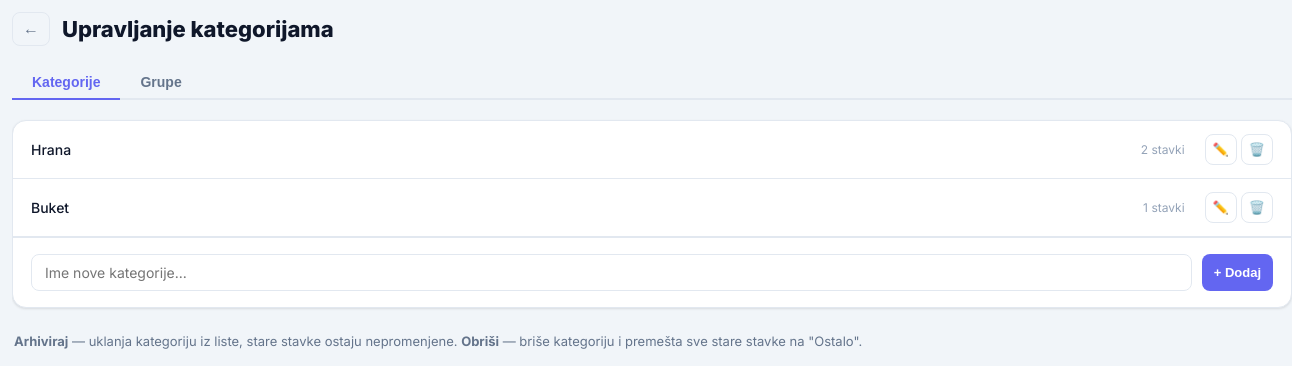
Scenario: CategoryManager — archive vs delete › clicking delete button reveals Arhiviraj and Obriši options
Click the button titled "Ukloni kategoriju" in the row of "Hrana". click: (1257, 150)
box: x1=1241 y1=134 x2=1273 y2=165
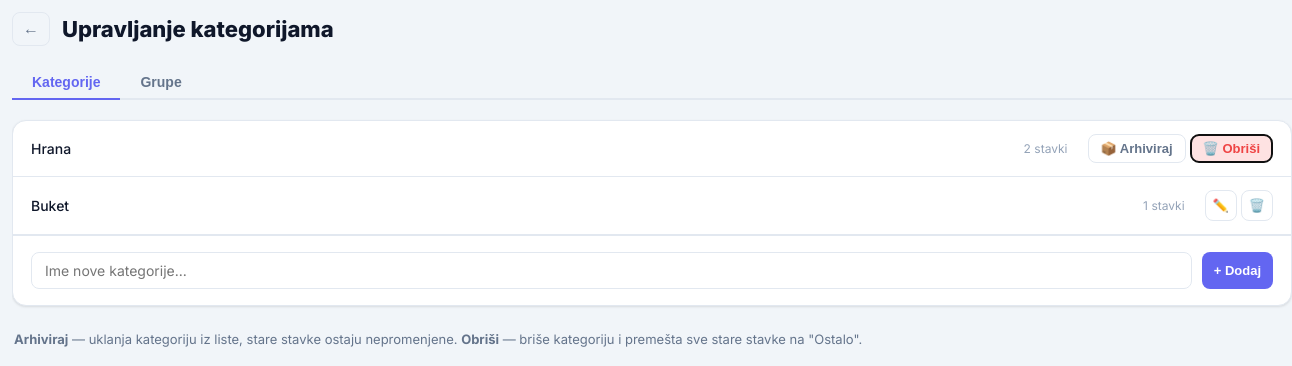
Result: the button "📦 Arhiviraj" is shown at x1=1088 y1=134 x2=1186 y2=163
Result: the button "🗑️ Obriši" is shown at x1=1190 y1=134 x2=1273 y2=163
